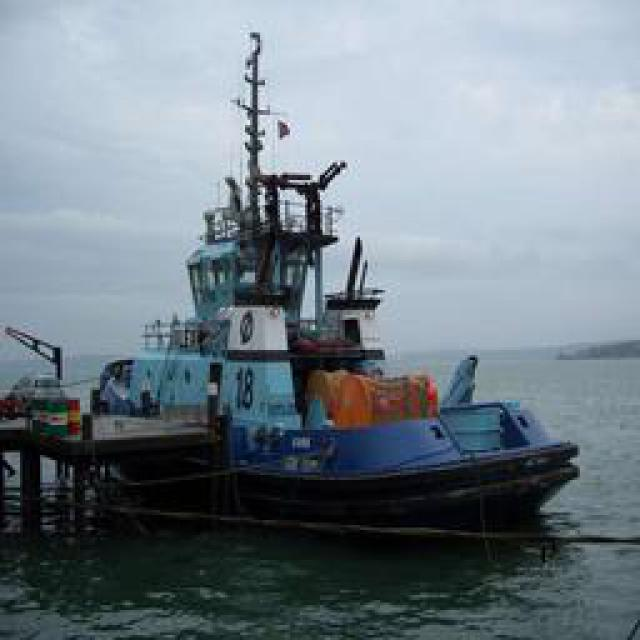Ship: (64, 43, 577, 531)
